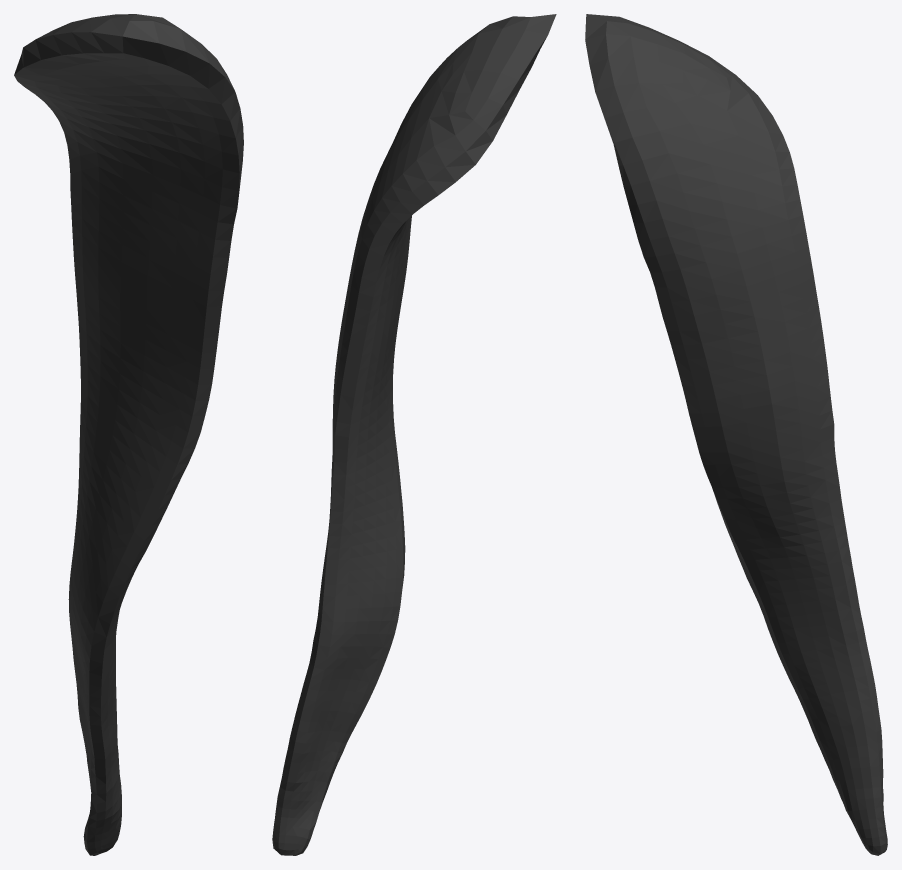
The model's file is Cleidocephalicus_cerv.glb.
The picture shows the model from 3 angles, left to right: view 1: azimuth 30°, elevation 25°; view 2: azimuth 150°, elevation 25°; view 3: azimuth 270°, elevation 25°; orthographic projection. The views are drawn at different scales.
Visible parts, largest first — view 1: Cleidocephalicus_cerv; view 2: Cleidocephalicus_cerv; view 3: Cleidocephalicus_cerv.
Part boxes in pixels (x1,y1,x2,y2): Cleidocephalicus_cerv: [14, 14, 243, 855]; Cleidocephalicus_cerv: [272, 14, 556, 855]; Cleidocephalicus_cerv: [585, 14, 887, 855].
Bounding box in the file's own units: 0.2977 × 1.48 × 0.5221.
Materials: 1 (1 with a texture image).
